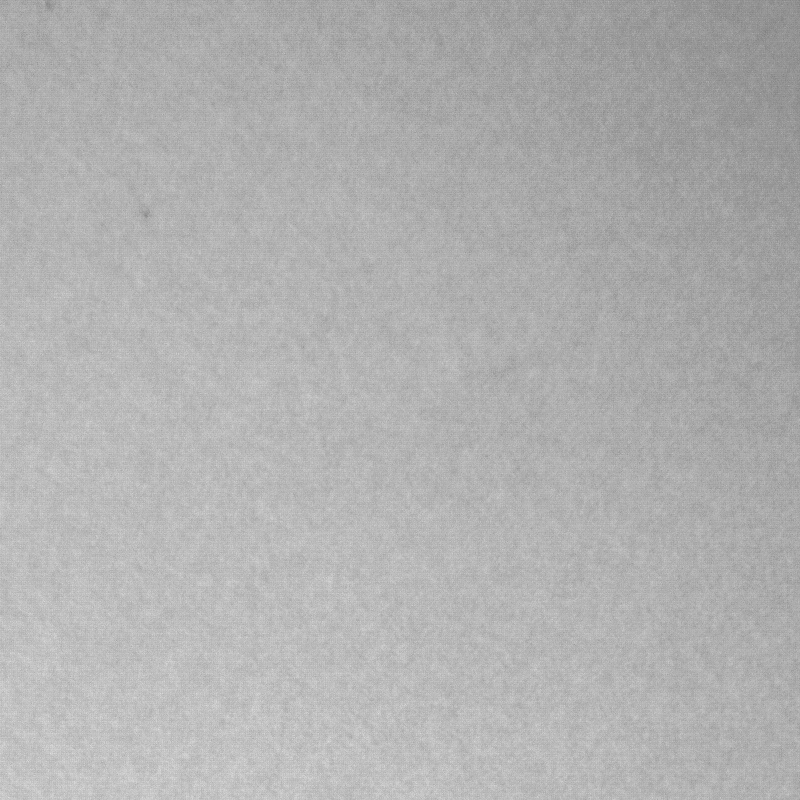defect: (141, 205, 150, 223)
